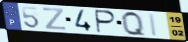4: (74, 9, 93, 33)
5: (20, 5, 41, 29)
I: (147, 12, 159, 37)
P: (95, 9, 118, 34)
Q: (120, 10, 148, 38)
Z: (42, 7, 67, 31)
